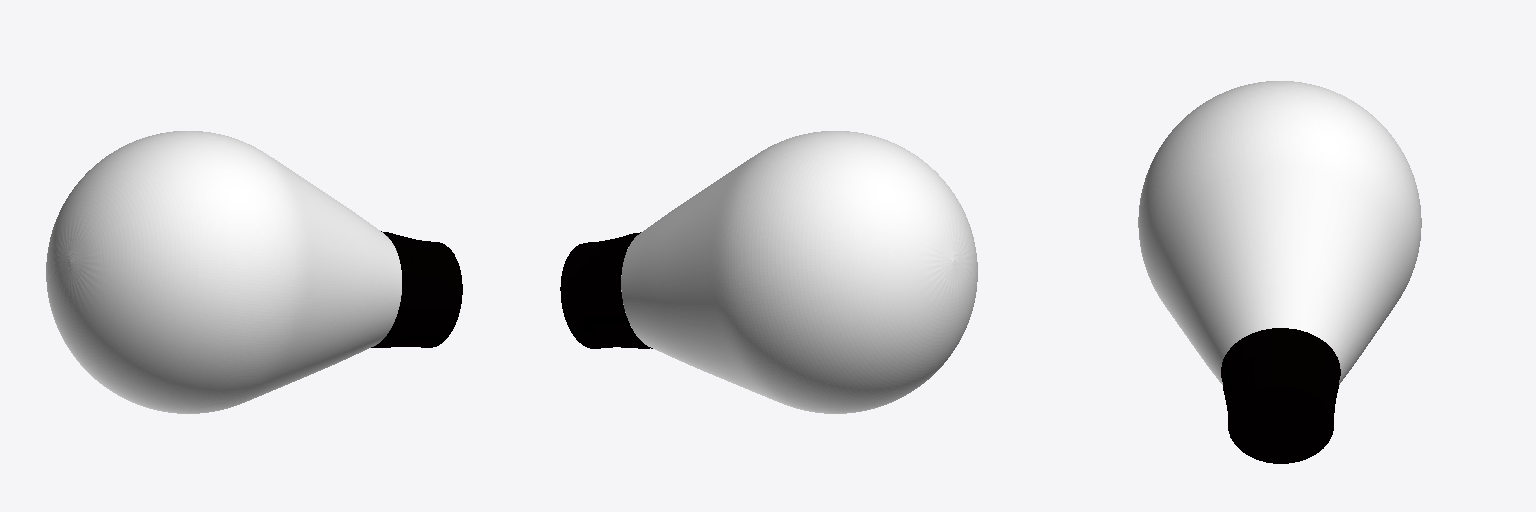
The model's file is light_bulb.obj.
3 renders of one model, left to right at view 1: azimuth 30°, elevation 25°; view 2: azimuth 150°, elevation 25°; view 3: azimuth 270°, elevation 25°, orthographic.
Parts seen in each view (by area): view 1: Sphere.006_Sphere.010, Sphere; view 2: Sphere.006_Sphere.010, Sphere; view 3: Sphere.006_Sphere.010, Sphere.
Boxes of the visible parts, x1=… form: Sphere.006_Sphere.010: x1=46, y1=131, x2=401, y2=413; Sphere: x1=371, y1=231, x2=462, y2=347; Sphere.006_Sphere.010: x1=621, y1=131, x2=977, y2=413; Sphere: x1=560, y1=232, x2=652, y2=348; Sphere.006_Sphere.010: x1=1138, y1=81, x2=1421, y2=384; Sphere: x1=1221, y1=328, x2=1340, y2=463.
Bounding box in the file's own units: 3.06 × 1.97 × 1.96.